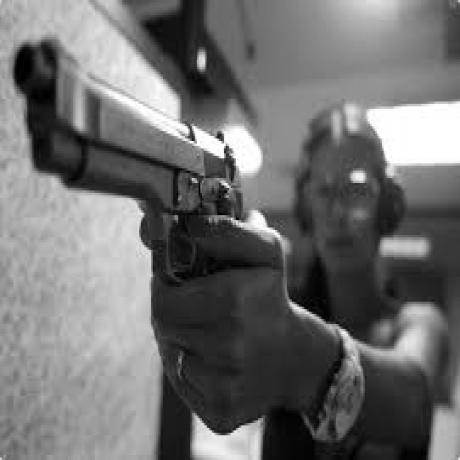Guns: (11, 37, 251, 281)
